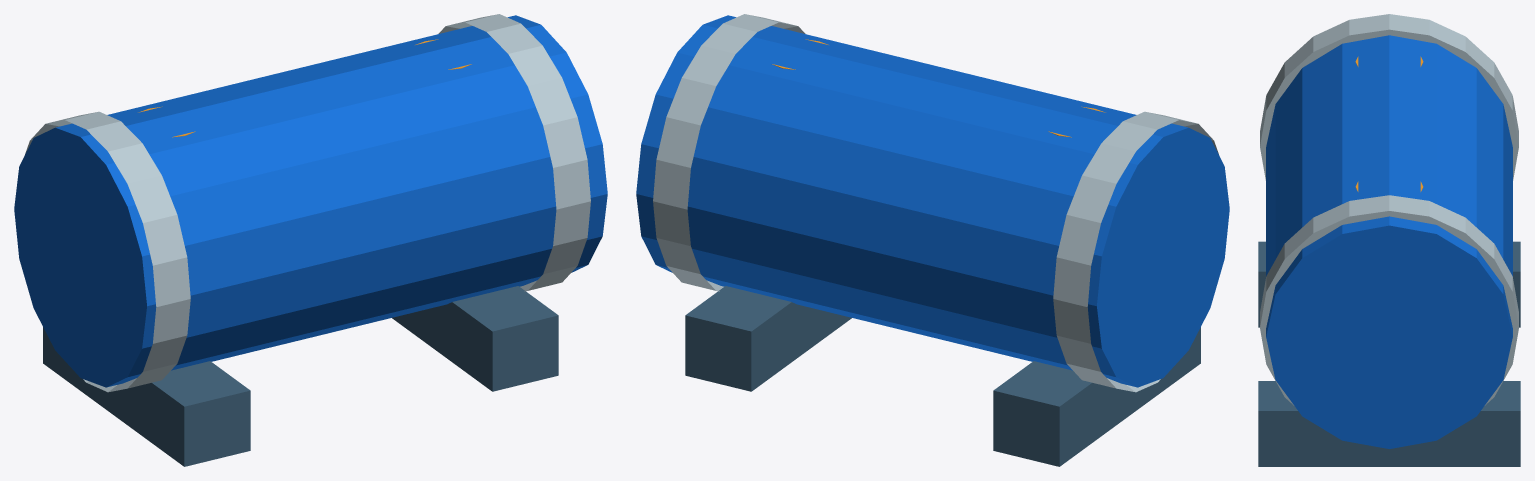
Rendered from 06_L69_HighPressureLiquidReceiver.fbx.
3 renders of one model, left to right at view 1: azimuth 30°, elevation 25°; view 2: azimuth 150°, elevation 25°; view 3: azimuth 270°, elevation 25°, orthographic. The views are drawn at different scales.
Visible parts, largest first — view 1: HighPressureLiquidReceiver; view 2: HighPressureLiquidReceiver; view 3: HighPressureLiquidReceiver.
Part boxes in pixels (box(x1,y1,x2,y2)): HighPressureLiquidReceiver: box(14, 14, 607, 466); HighPressureLiquidReceiver: box(636, 14, 1229, 466); HighPressureLiquidReceiver: box(1258, 14, 1520, 466).
Bounding box in the file's own units: 160 × 97 × 85.
